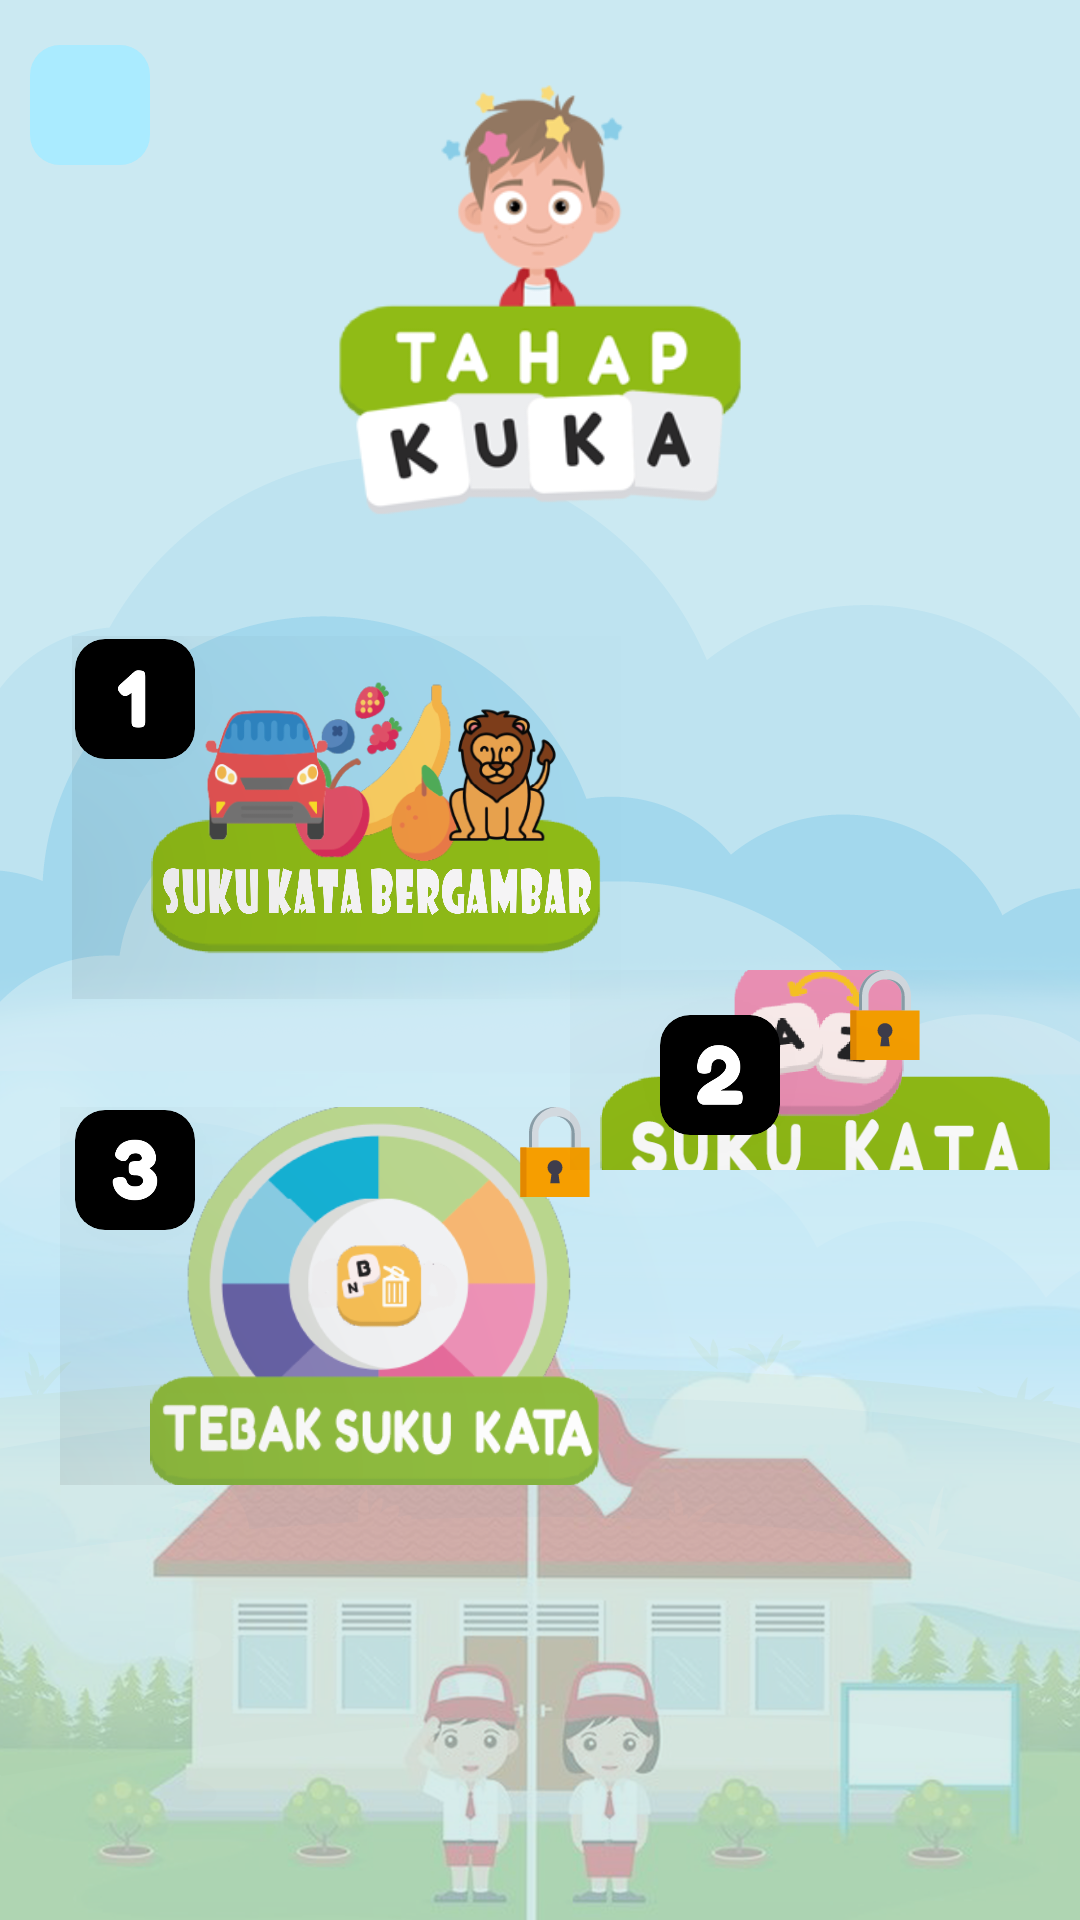

Icons on this 1080px×1920px Android screen, each with the point to tap as (x=x, y=y):
numb: (x=132, y=699), (x=720, y=1075), (x=135, y=1170)
padlock: (x=885, y=1015), (x=555, y=1152)
